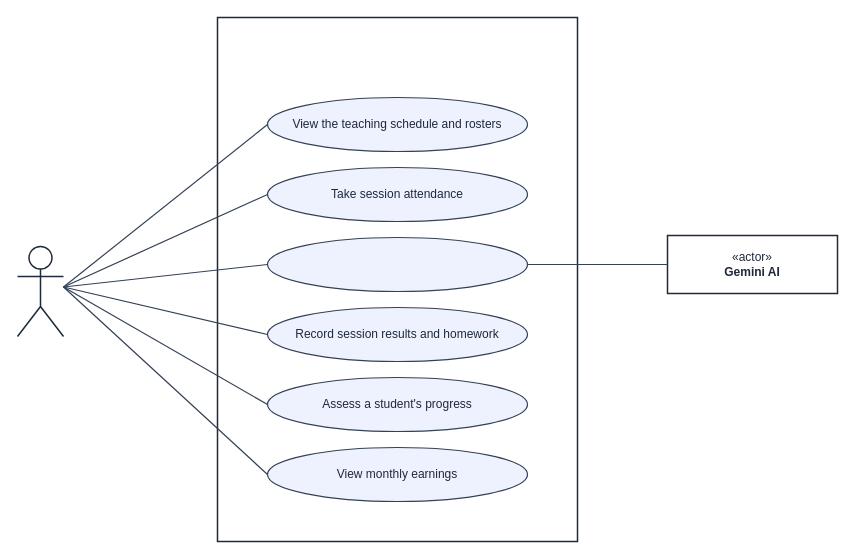
This 856x560 diagram has some shape labels left out. Each missing label, with the box of its shape:
Arena3 Sports Centre Management System: (216, 16, 578, 542)
Coach: (16, 245, 64, 337)
Plan a training session: (266, 236, 528, 292)
